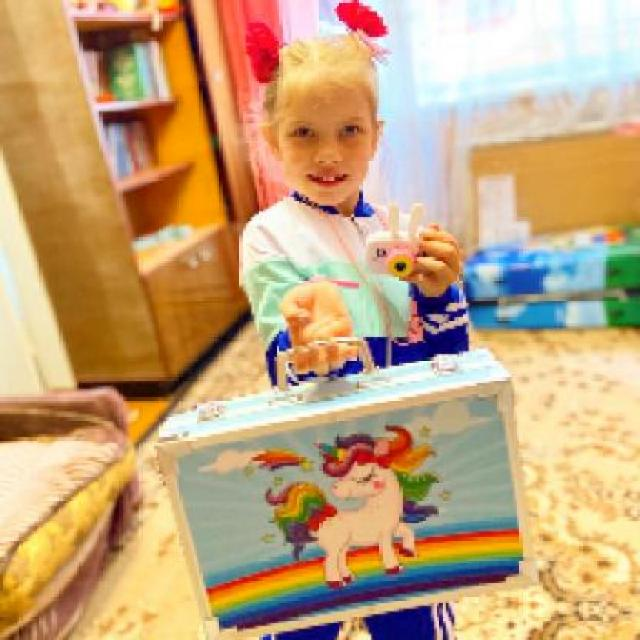child: (237, 0, 474, 637)
